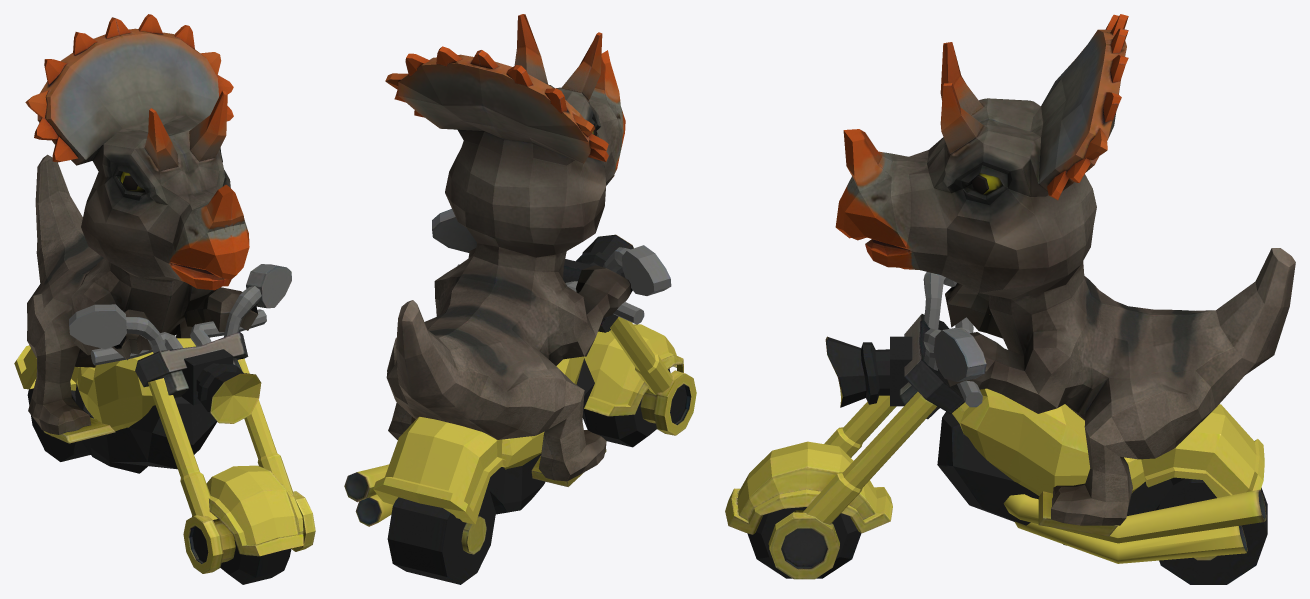
Rendered from Triceratops.fbx.
3 views of the same model, side by side, from view 1: azimuth 30°, elevation 25°; view 2: azimuth 150°, elevation 25°; view 3: azimuth 270°, elevation 25° (orthographic). The views are drawn at different scales.
Parts seen in each view (by area): view 1: Trizeratops; view 2: Trizeratops; view 3: Trizeratops.
Part boxes in pixels (x1,y1,x2,y2): Trizeratops: (14, 14, 315, 584); Trizeratops: (344, 14, 696, 584); Trizeratops: (725, 14, 1295, 584).
Size of the model in its own units: 189 by 374 by 357.
Materials: 1 (1 with a texture image).
